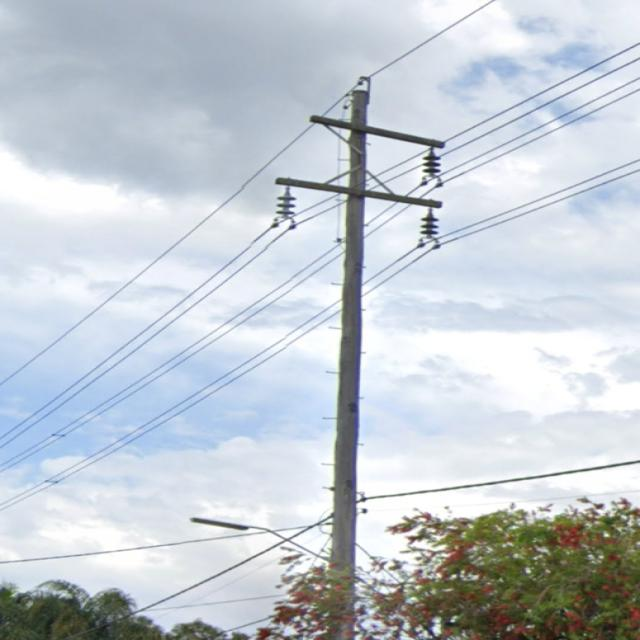HV-transmission: (270, 74, 447, 250)
crossarm: (272, 174, 442, 208), (308, 114, 445, 148)
streetlight: (188, 516, 326, 562)
timber-pole: (323, 88, 368, 638)
